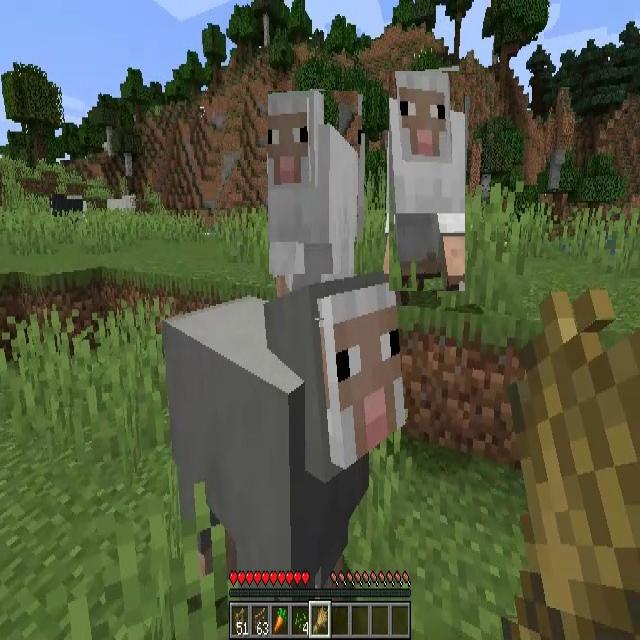sheep: (167, 276, 406, 572), (389, 71, 465, 291), (268, 91, 358, 274), (51, 194, 83, 217), (106, 196, 136, 218)
